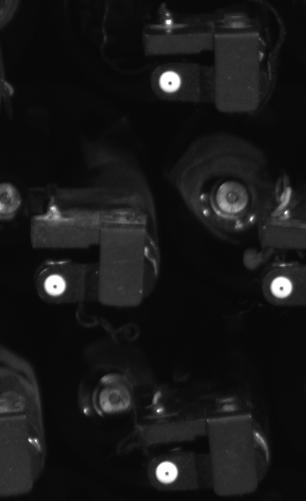fiber: (154, 66, 186, 97), (265, 273, 298, 302), (153, 457, 182, 487), (42, 272, 70, 301)
